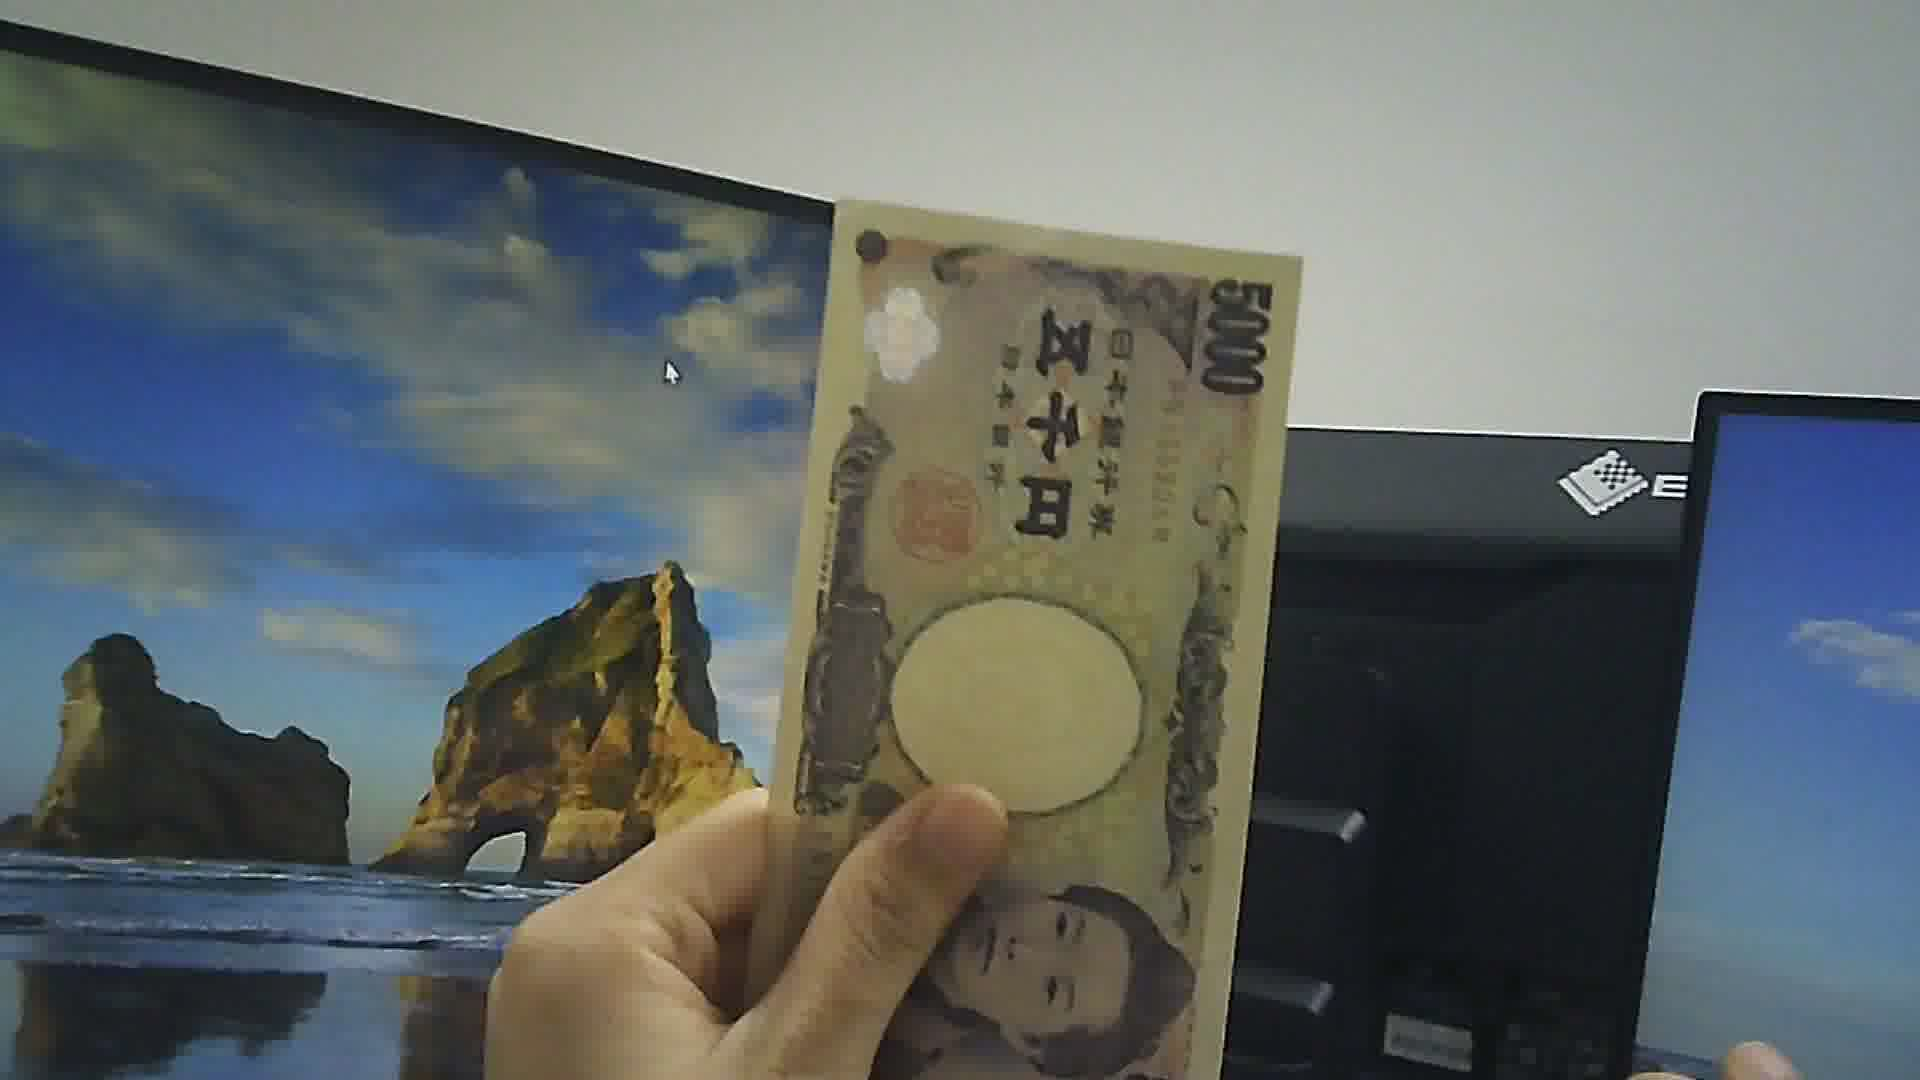5,000 Yen: (752, 189, 1275, 1079)
